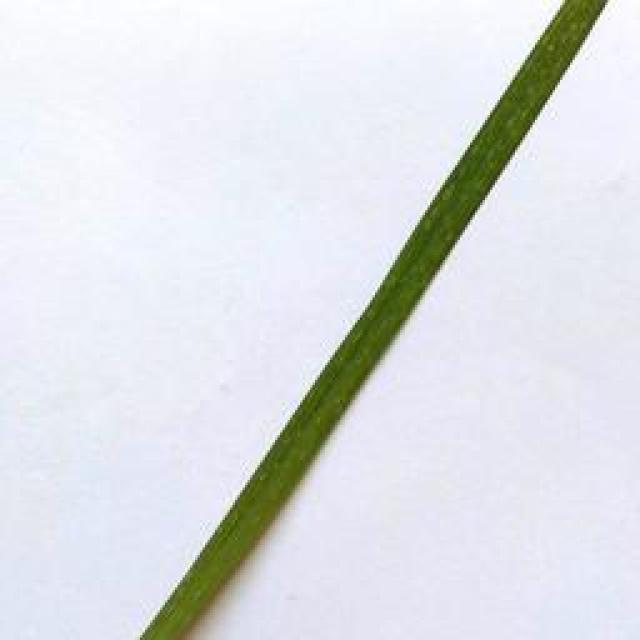Healthy-Plant: (140, 0, 610, 640)
